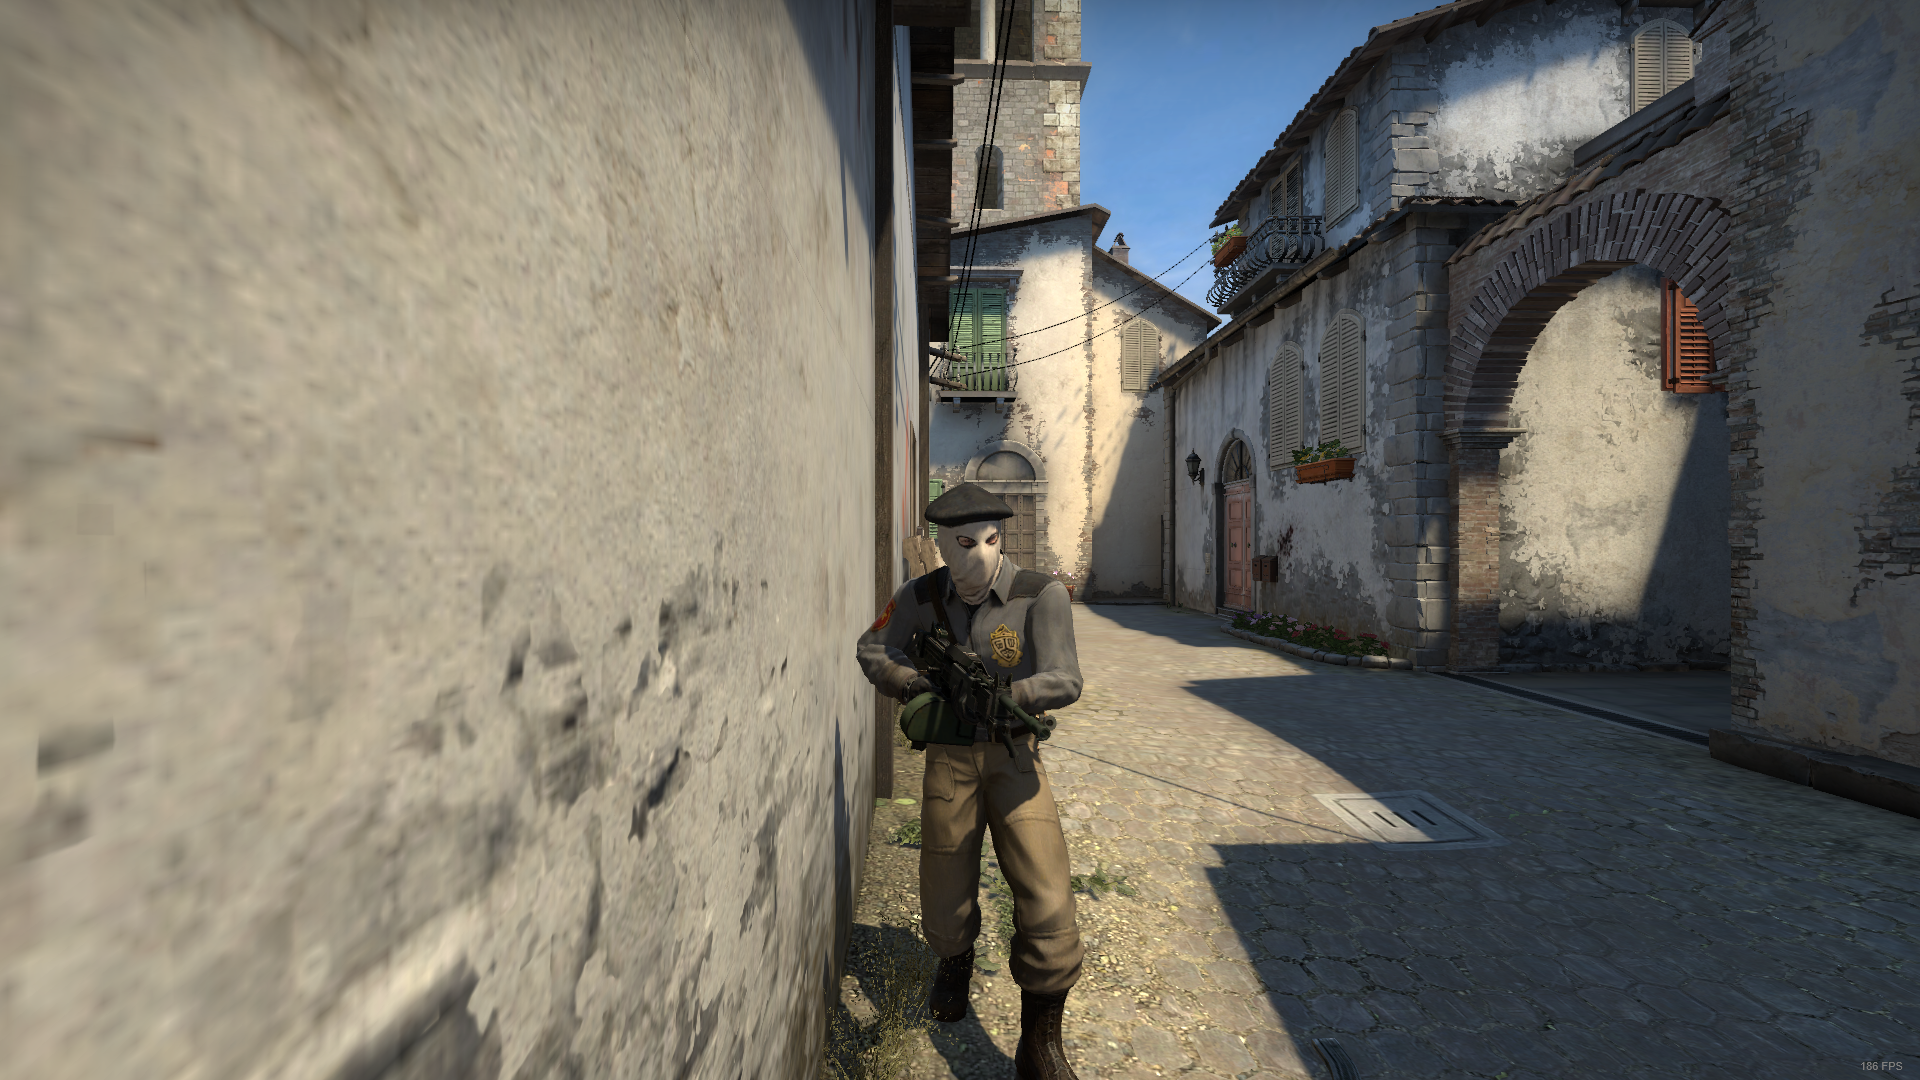t: (837, 477, 1105, 1080)
